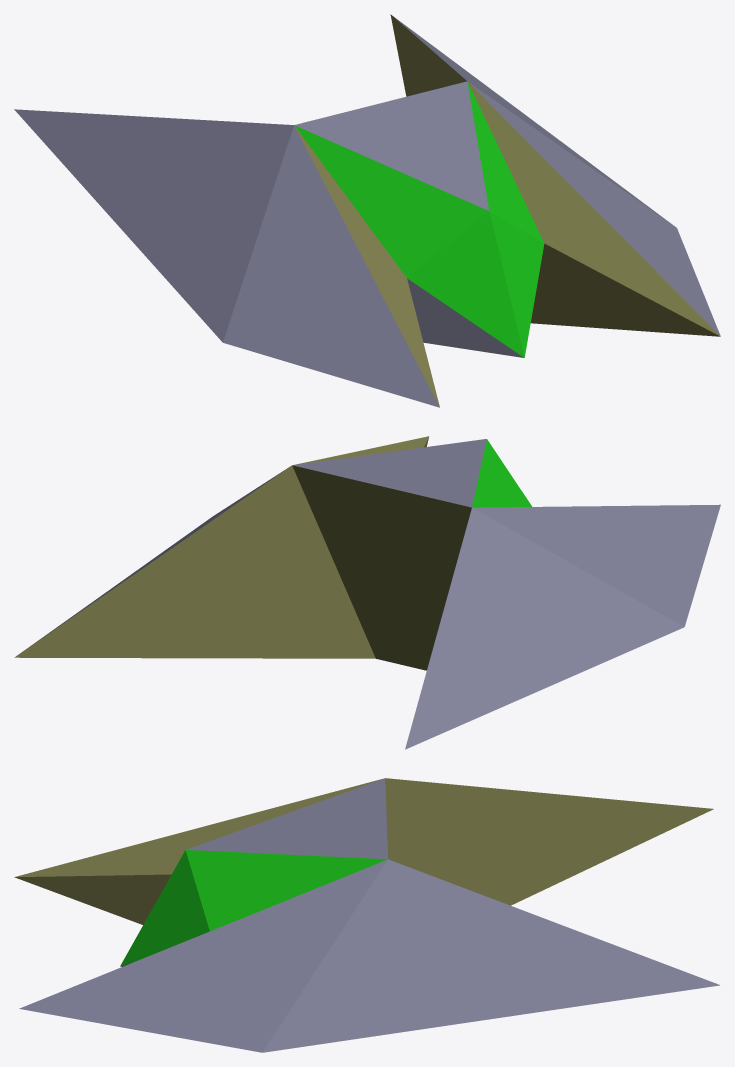
The model's file is Invader I.obj.
The picture shows the model from 3 angles, top to bottom: view 1: azimuth 30°, elevation 25°; view 2: azimuth 150°, elevation 25°; view 3: azimuth 270°, elevation 25°; orthographic projection. The views are drawn at different scales.
Parts seen in each view (by area): view 1: invader, invader chip, invader green; view 2: invader chip, invader, invader green; view 3: invader, invader chip, invader green.
Boxes of the visible parts, box(x1,y1,x2,y2) form: invader: box(14, 15, 720, 407); invader chip: box(295, 14, 720, 406); invader green: box(294, 82, 544, 357); invader chip: box(14, 436, 471, 670); invader: box(21, 439, 720, 749); invader green: box(472, 439, 532, 507); invader: box(19, 778, 719, 1052); invader chip: box(14, 778, 713, 924); invader green: box(120, 850, 387, 966).
Bounding box in the file's own units: 152 × 63.61 × 213.
